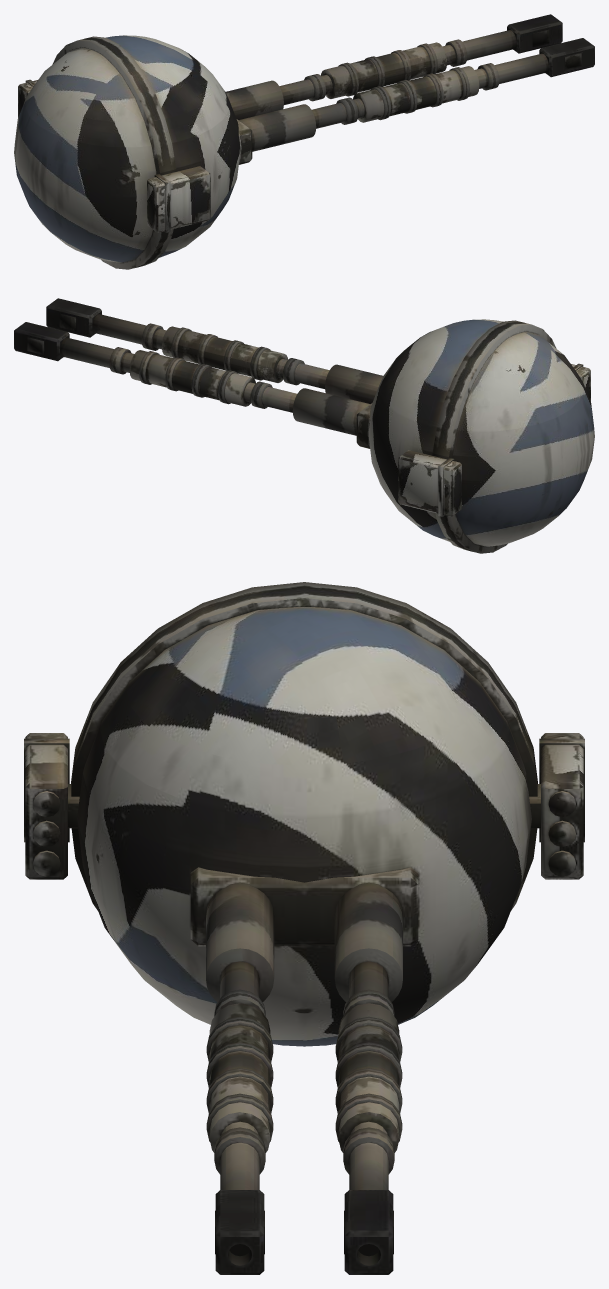
Rendered from turret_kit_tail_ball_t3_dazzle.glb.
The picture shows the model from 3 angles, top to bottom: view 1: azimuth 30°, elevation 25°; view 2: azimuth 150°, elevation 25°; view 3: azimuth 270°, elevation 25°; orthographic projection. The views are drawn at different scales.
Visible parts, largest first — view 1: turret_tail_ball_t3, pods; view 2: turret_tail_ball_t3, pods; view 3: turret_tail_ball_t3, pods.
Boxes of the visible parts, x1,y1,x2,y2 form: turret_tail_ball_t3: [14, 14, 594, 269]; pods: [18, 79, 210, 232]; turret_tail_ball_t3: [14, 298, 594, 553]; pods: [398, 363, 590, 516]; turret_tail_ball_t3: [71, 582, 537, 1274]; pods: [24, 733, 584, 879].
Size of the model in its own units: 1.66 by 0.62 by 0.7402.
Materials: 2 (2 with a texture image).
